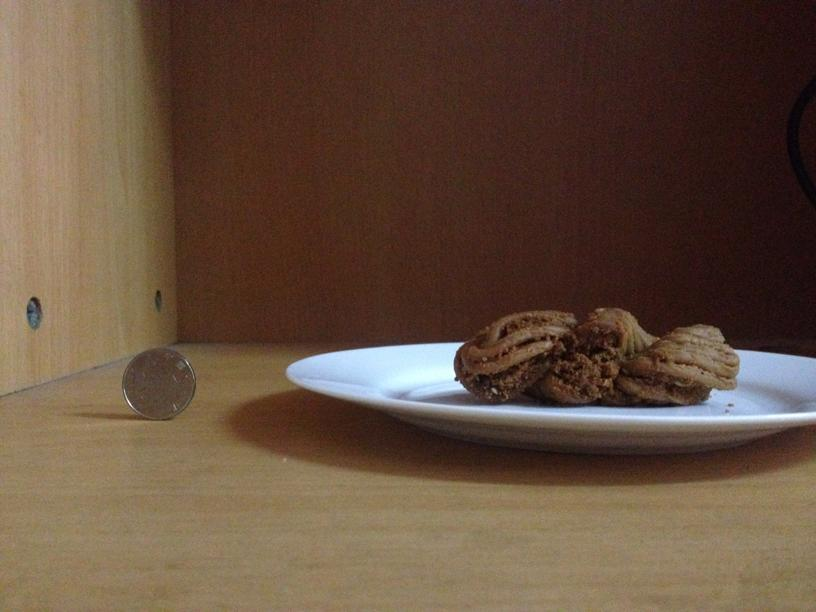coin: (120, 344, 196, 420)
fired_dough_twist: (457, 306, 737, 404)
